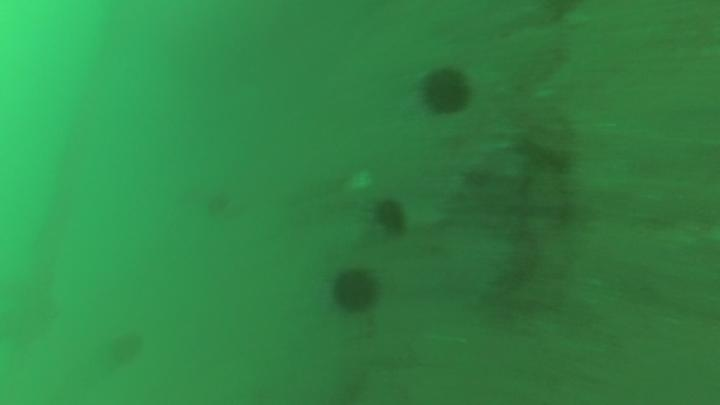echinus: (326, 258, 392, 320), (415, 63, 475, 119), (365, 196, 413, 244)
